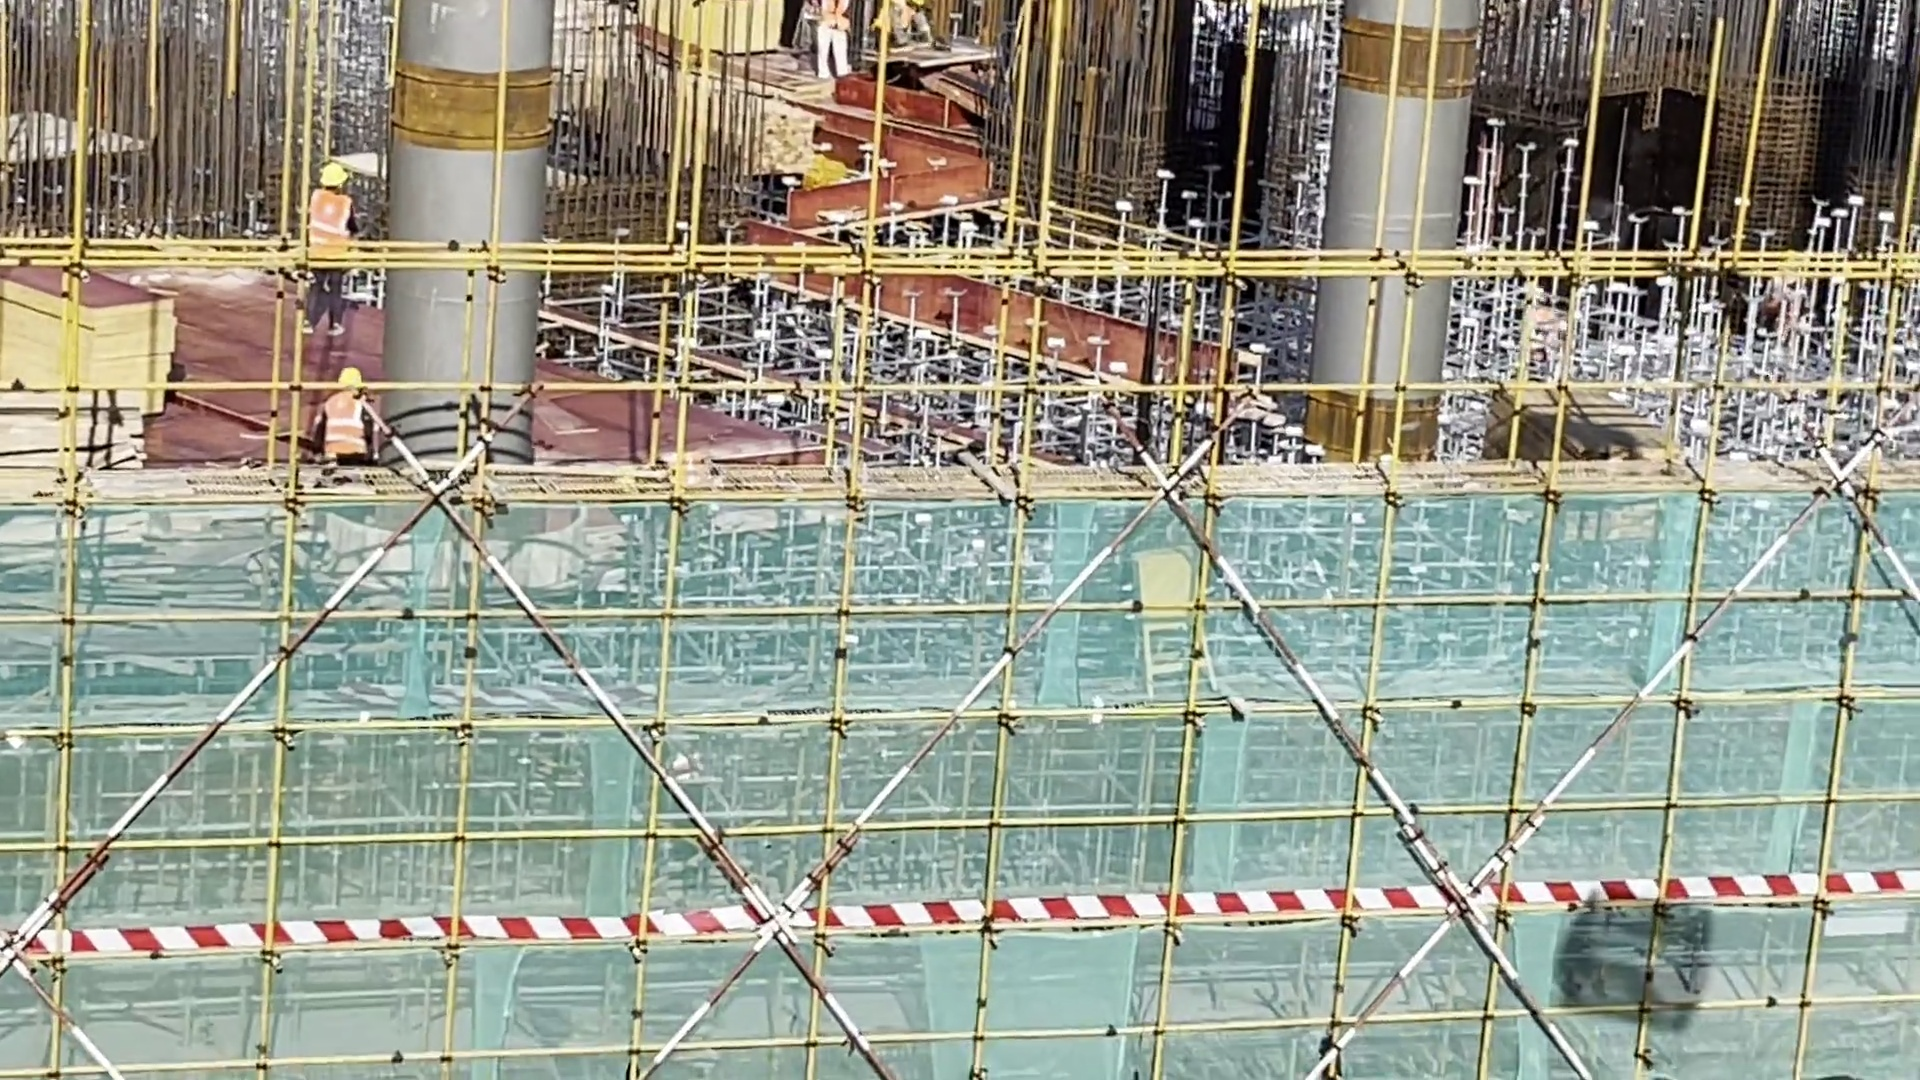board: (1, 263, 193, 446), (1493, 372, 1673, 487)
ebox: (1127, 539, 1220, 701)
helmet: (322, 158, 355, 201), (334, 358, 368, 395)
person: (301, 151, 366, 341), (308, 355, 390, 487), (813, 1, 857, 94), (883, 1, 943, 66)
vest: (323, 392, 369, 465), (308, 187, 352, 255), (816, 1, 849, 37)
wood: (1, 374, 148, 489)
